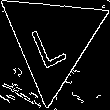L_NW: (30, 11, 74, 69)
